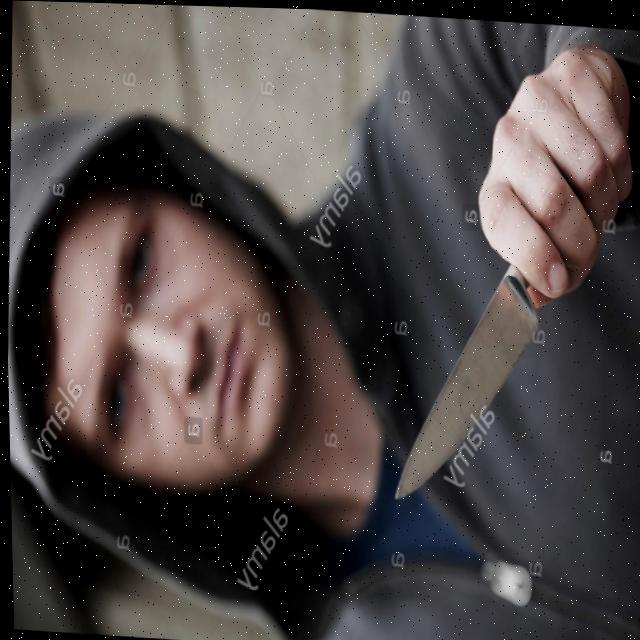knife: (378, 259, 542, 524)
